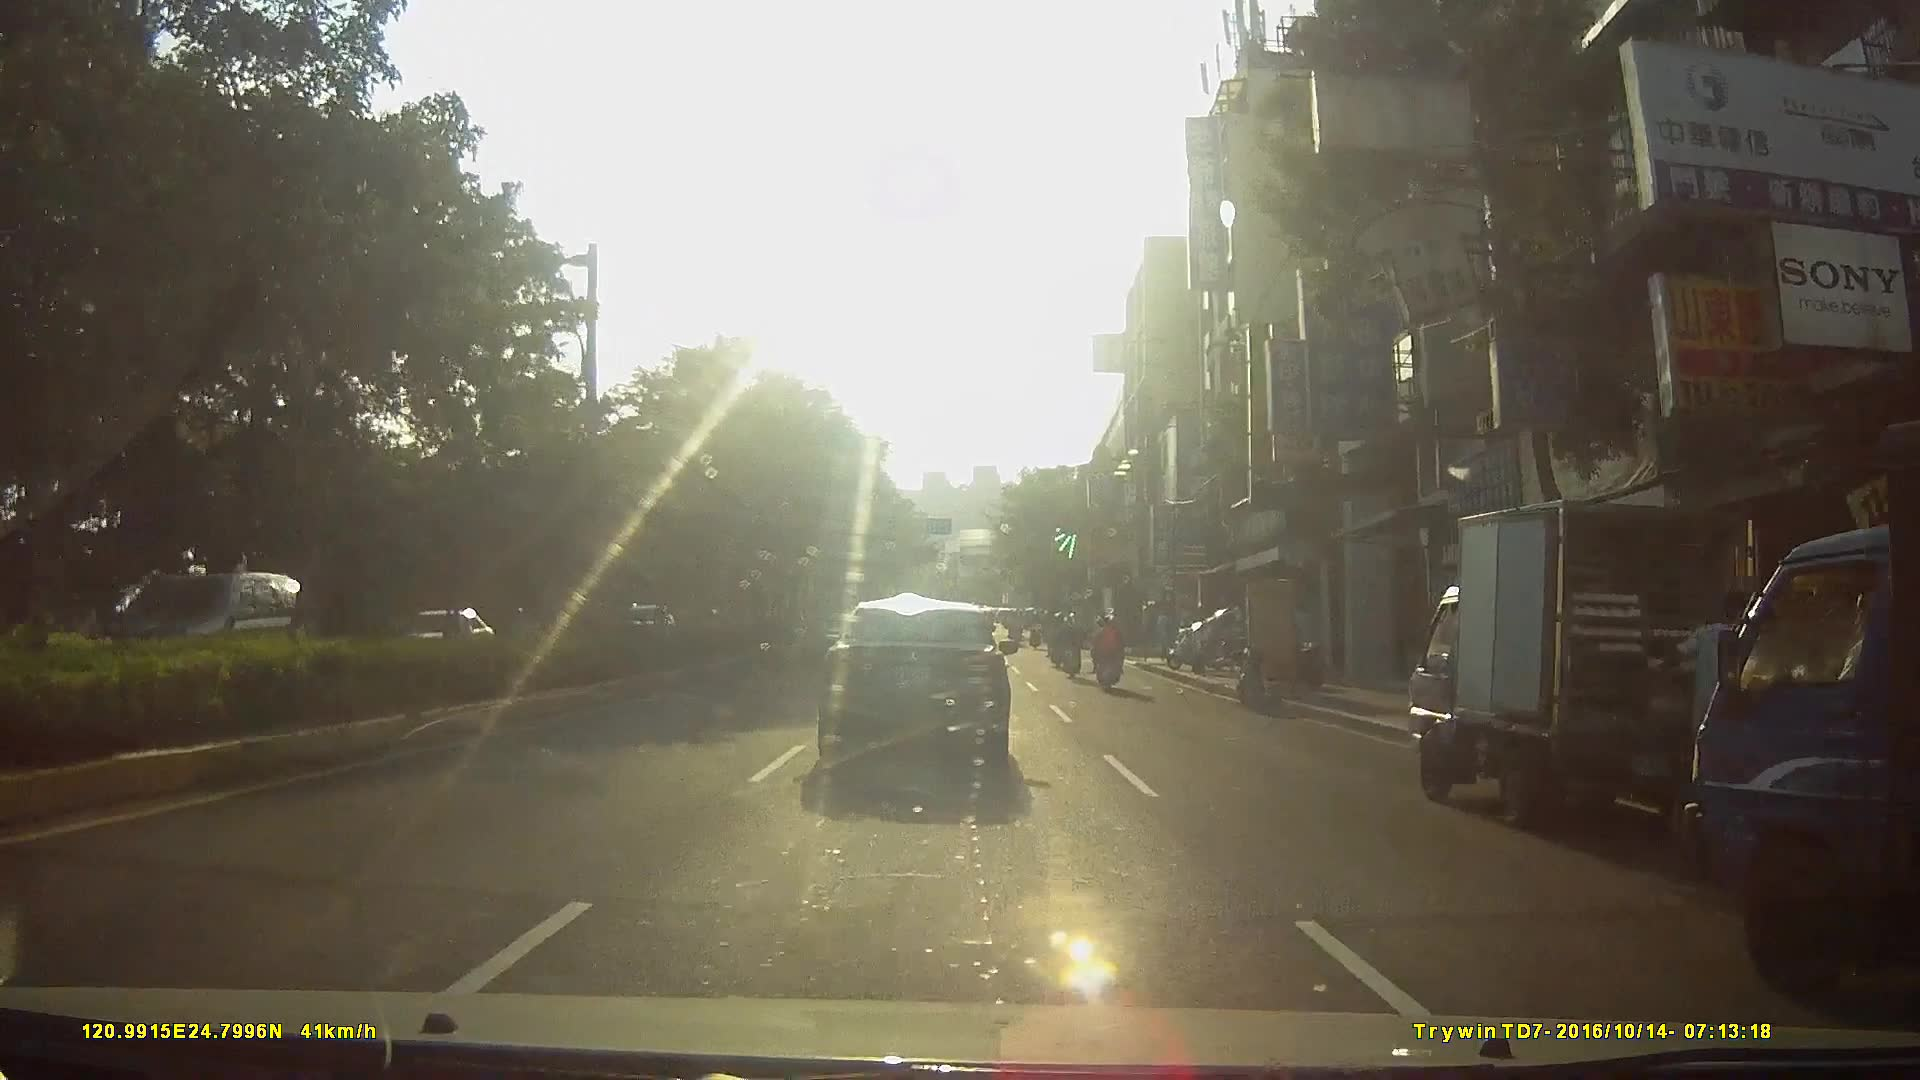rider: (1090, 614, 1127, 695), (1058, 609, 1085, 682), (1047, 606, 1068, 665)
vehicle: (1669, 412, 1920, 986), (1403, 480, 1755, 827), (810, 593, 1023, 785), (97, 571, 314, 690)
